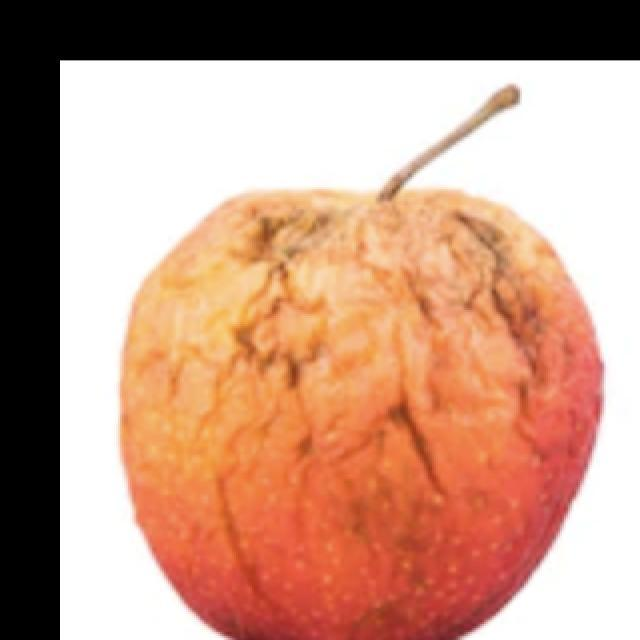Rotten: (118, 198, 603, 640)
